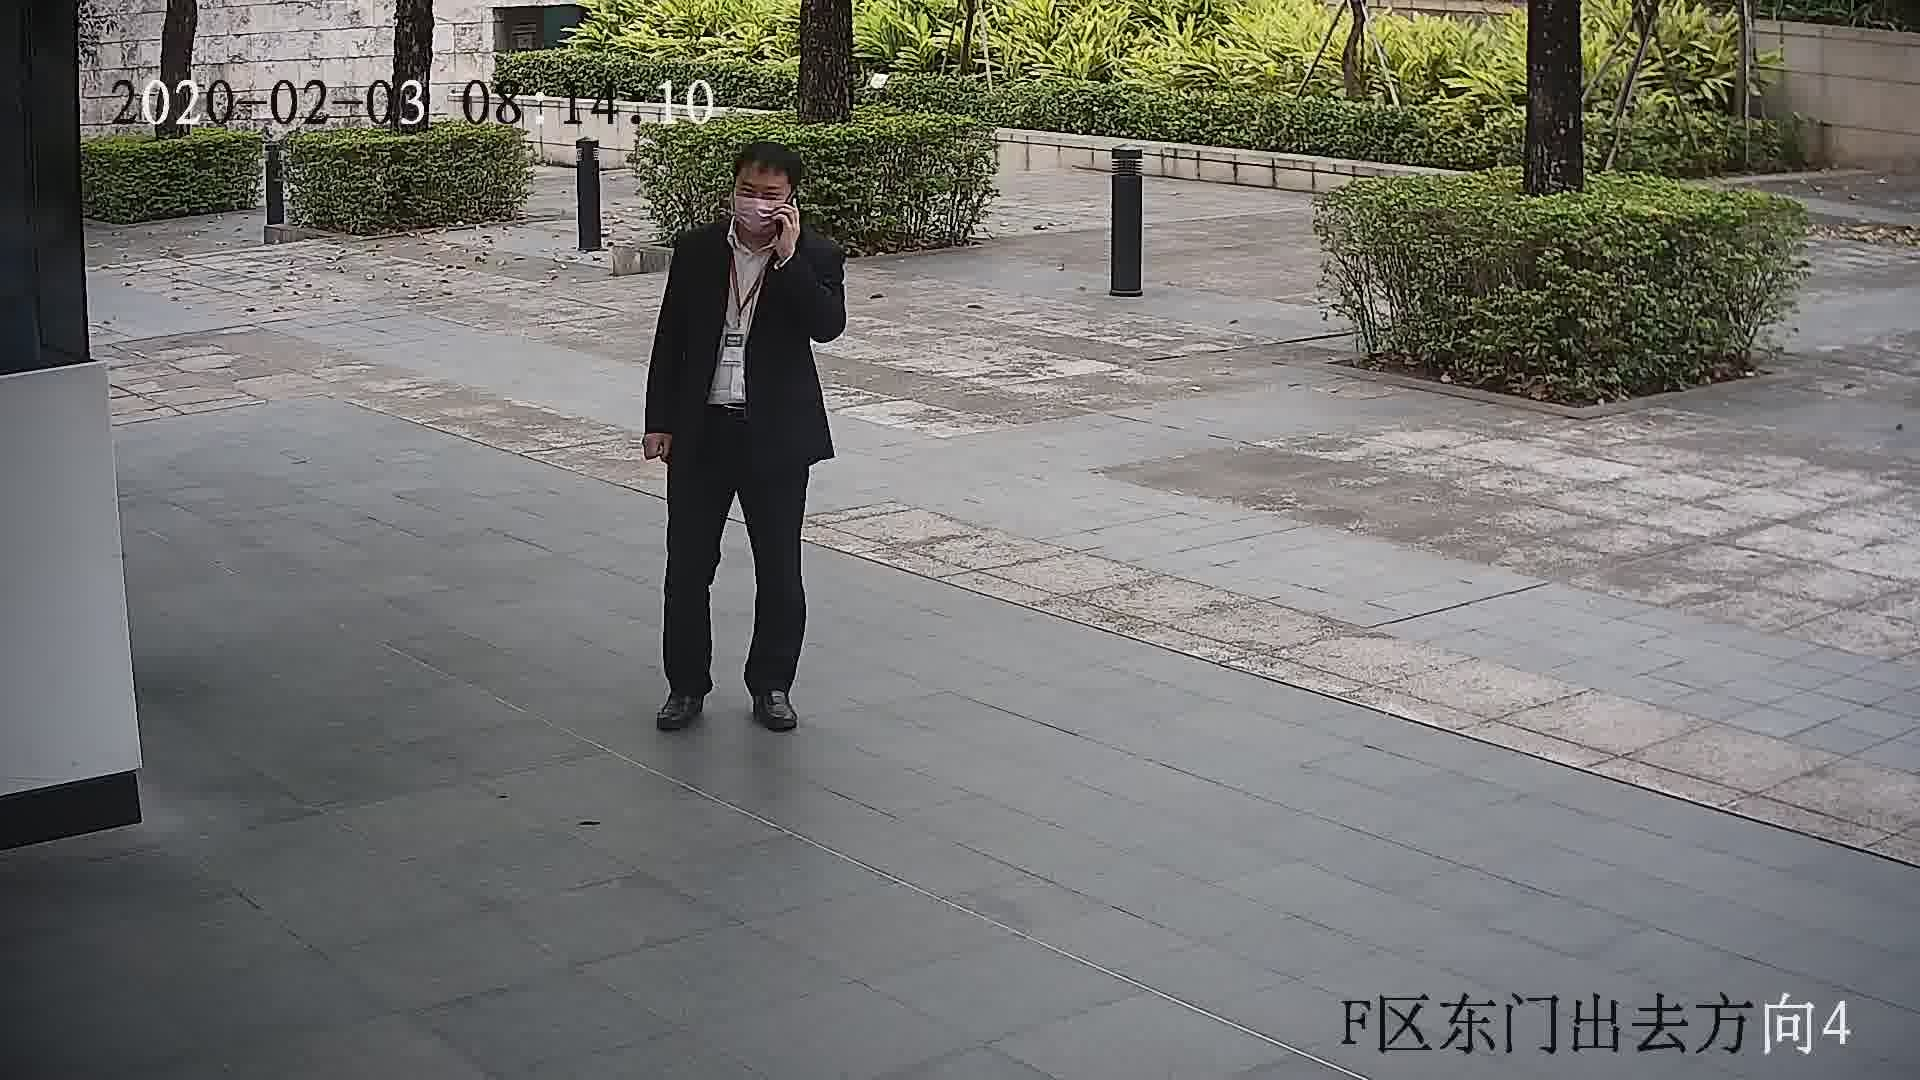face: (728, 168, 792, 232)
mask: (732, 188, 785, 233)
person: (674, 143, 841, 281)
